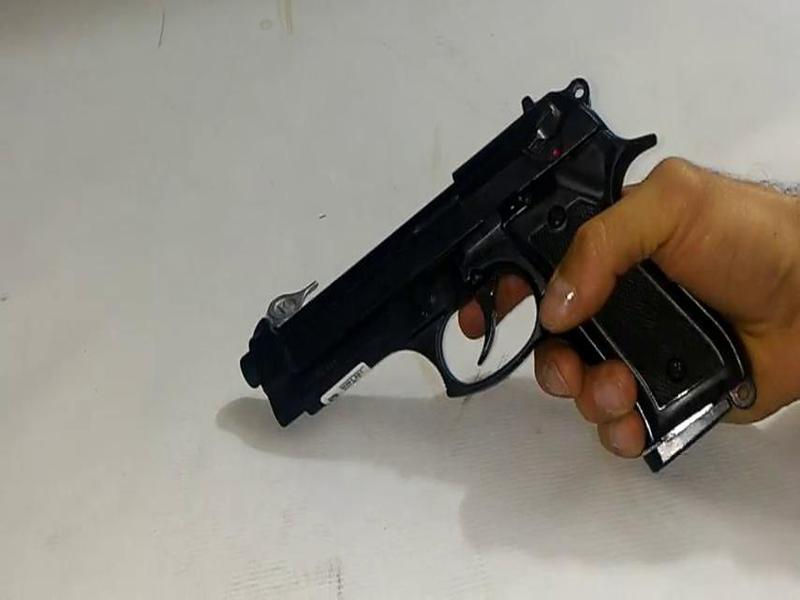Pistola: (219, 64, 771, 466)
